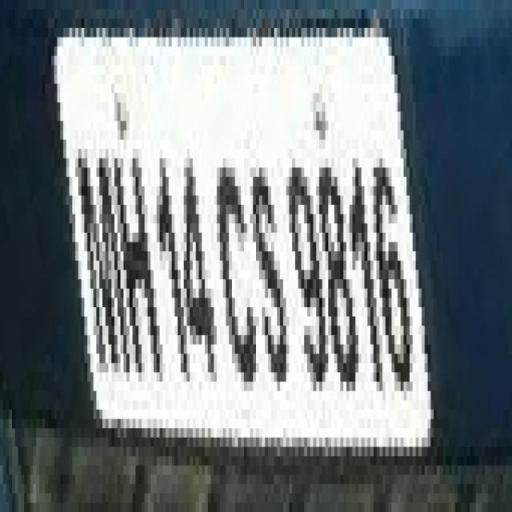number plate: (18, 19, 467, 475)
